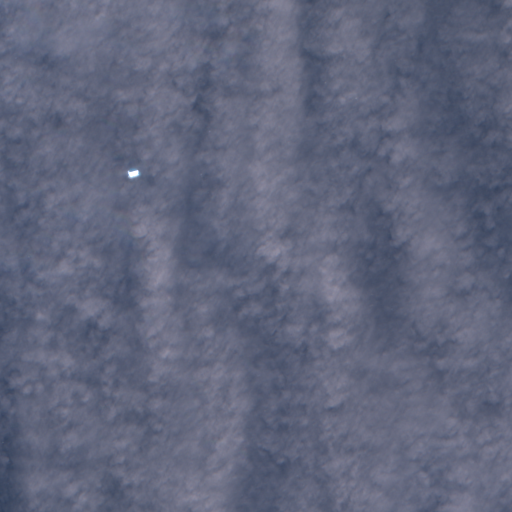Iceberg: (128, 170, 139, 178)
